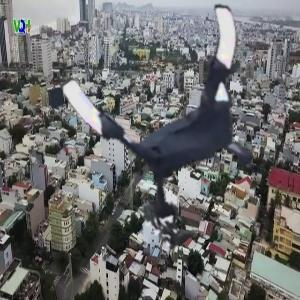drone: (84, 9, 289, 214)
